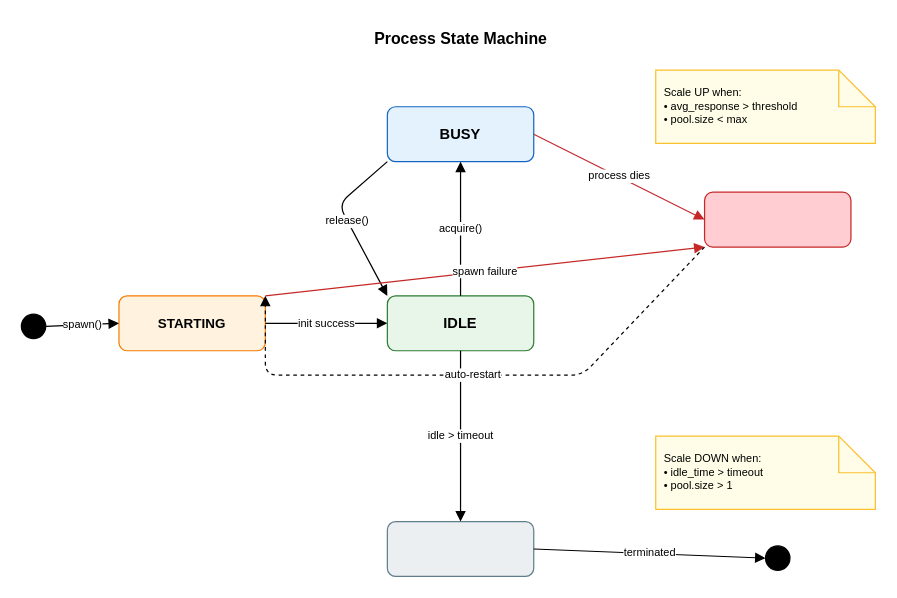
Some shapes in this 897 by 598 pixel diagram are drawn without their labels. The centre of each missing label's shape, as x and y in pixels:
"CRASHED" goes at (777,219).
"STOPPING" goes at (460,548).
